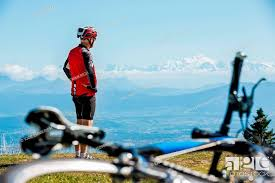helmet: (78, 26, 97, 48)
